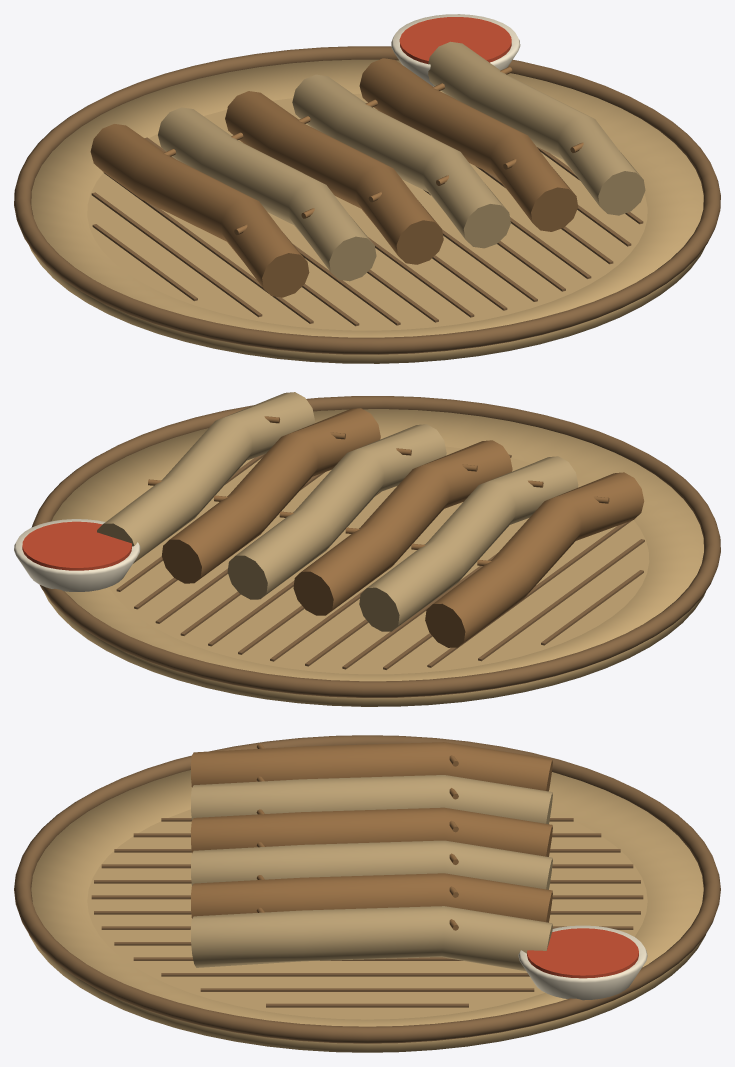
The picture shows the model from 3 angles, top to bottom: view 1: azimuth 30°, elevation 25°; view 2: azimuth 150°, elevation 25°; view 3: azimuth 270°, elevation 25°; orthographic projection. The views are drawn at different scales.
Visible parts, largest first — view 1: Basket, Keropok, Sauce; view 2: Basket, Keropok, Sauce; view 3: Basket, Keropok, Sauce.
Boxes of the visible parts, bbox=[...] form: Basket: bbox=[14, 46, 720, 363]; Keropok: bbox=[90, 41, 645, 297]; Sauce: bbox=[391, 14, 520, 86]; Basket: bbox=[31, 396, 720, 706]; Keropok: bbox=[97, 392, 644, 647]; Sauce: bbox=[14, 519, 140, 591]; Basket: bbox=[14, 735, 720, 1052]; Keropok: bbox=[190, 742, 552, 971]; Sauce: bbox=[518, 925, 647, 1000].
Size of the model in its own units: 0.328 by 0.0536 by 0.328.
